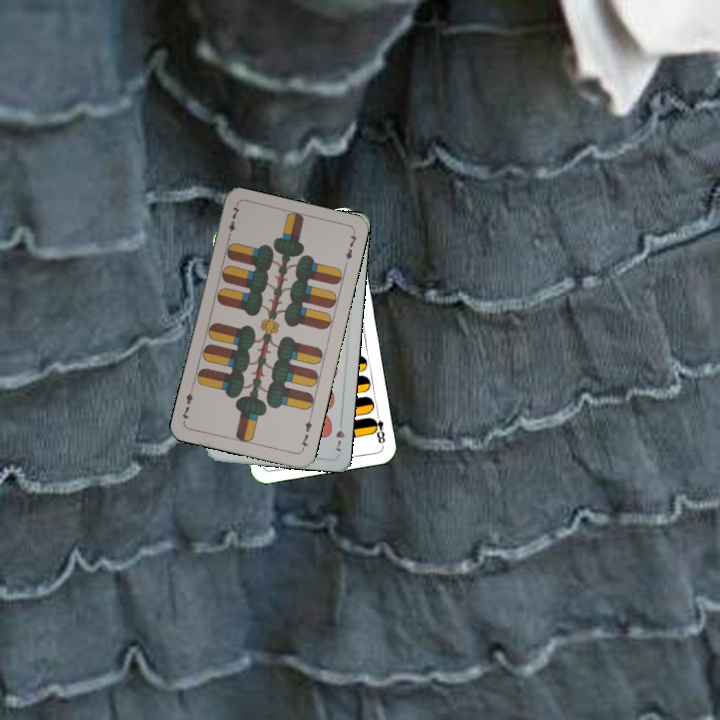E7: (224, 202, 243, 242), (297, 413, 315, 453)
E8: (368, 408, 387, 448)
H7: (332, 415, 347, 454)
